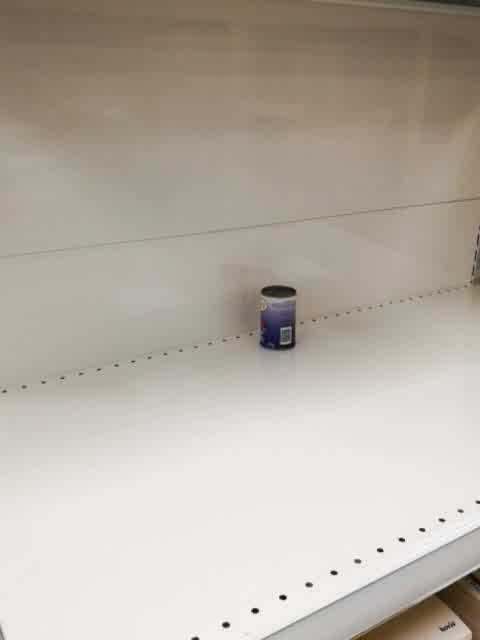sardine: (259, 285, 297, 351)
